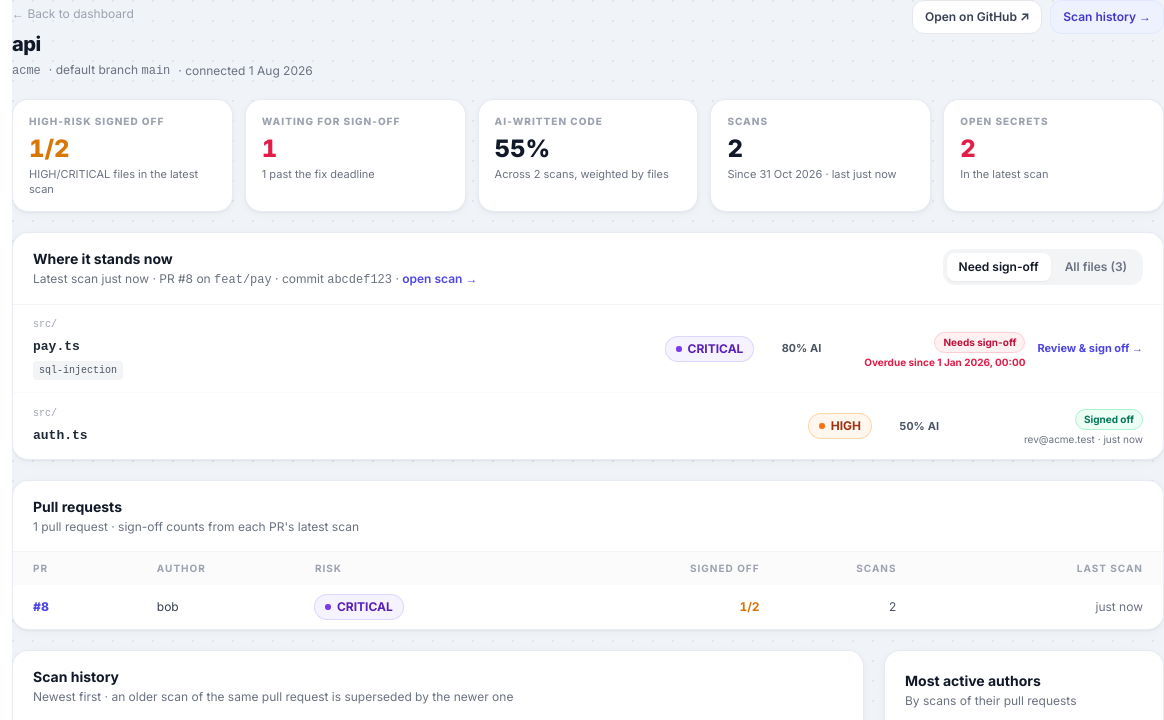
Scenario: Repository page › shows where the repo stands, from real data
Check: the text "rev@acme.test" is shown, box [1024,433,1095,445]
Check: the text "util.ts" is not shown
Click the button "All files (3)". click: (1096, 267)
box: [1053,253,1139,281]
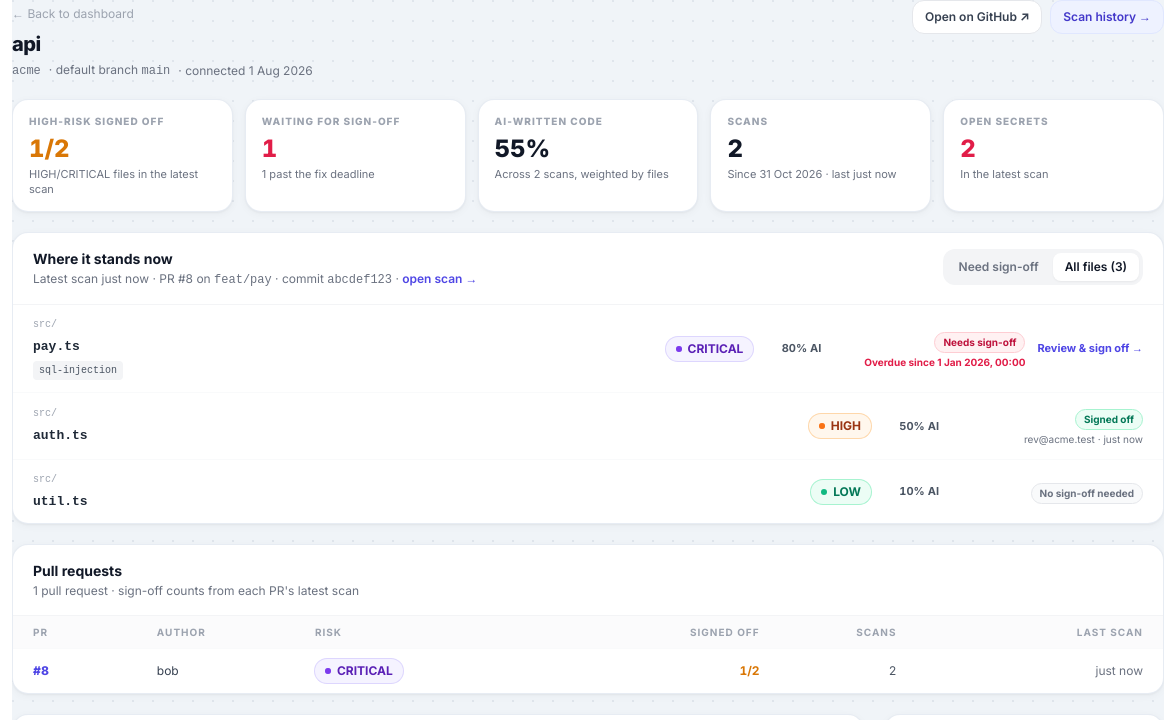
Check: the text "1/2" is shown, box [559,649,768,693]
Check: the text "util.ts" is shown, box [33,494,88,509]
